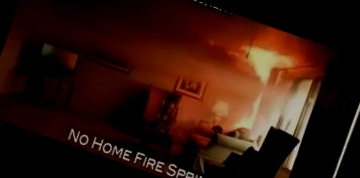fire: (210, 19, 320, 151)
